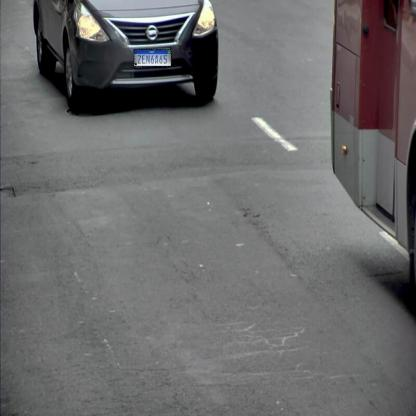PlacaM: (134, 49, 172, 67)
